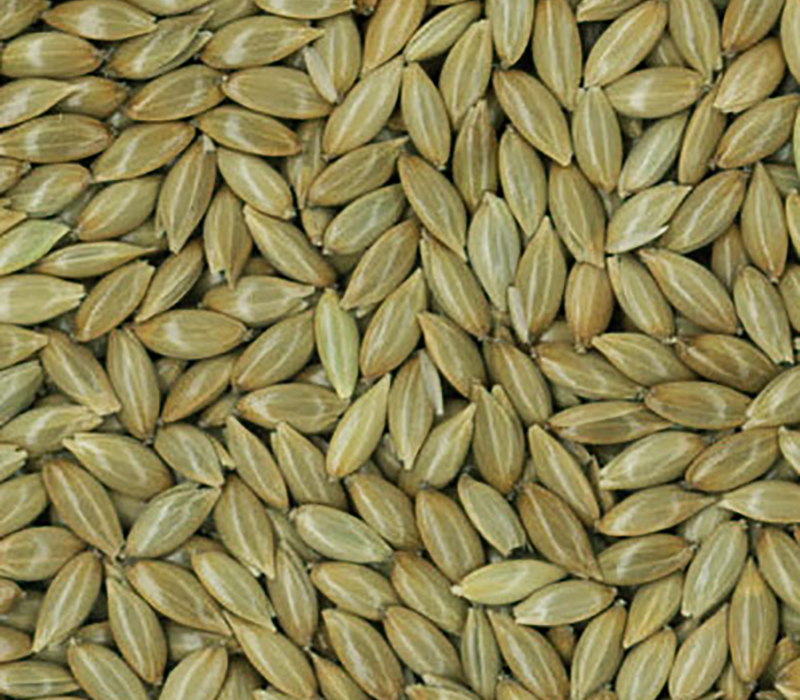seed: (3, 3, 800, 700)
